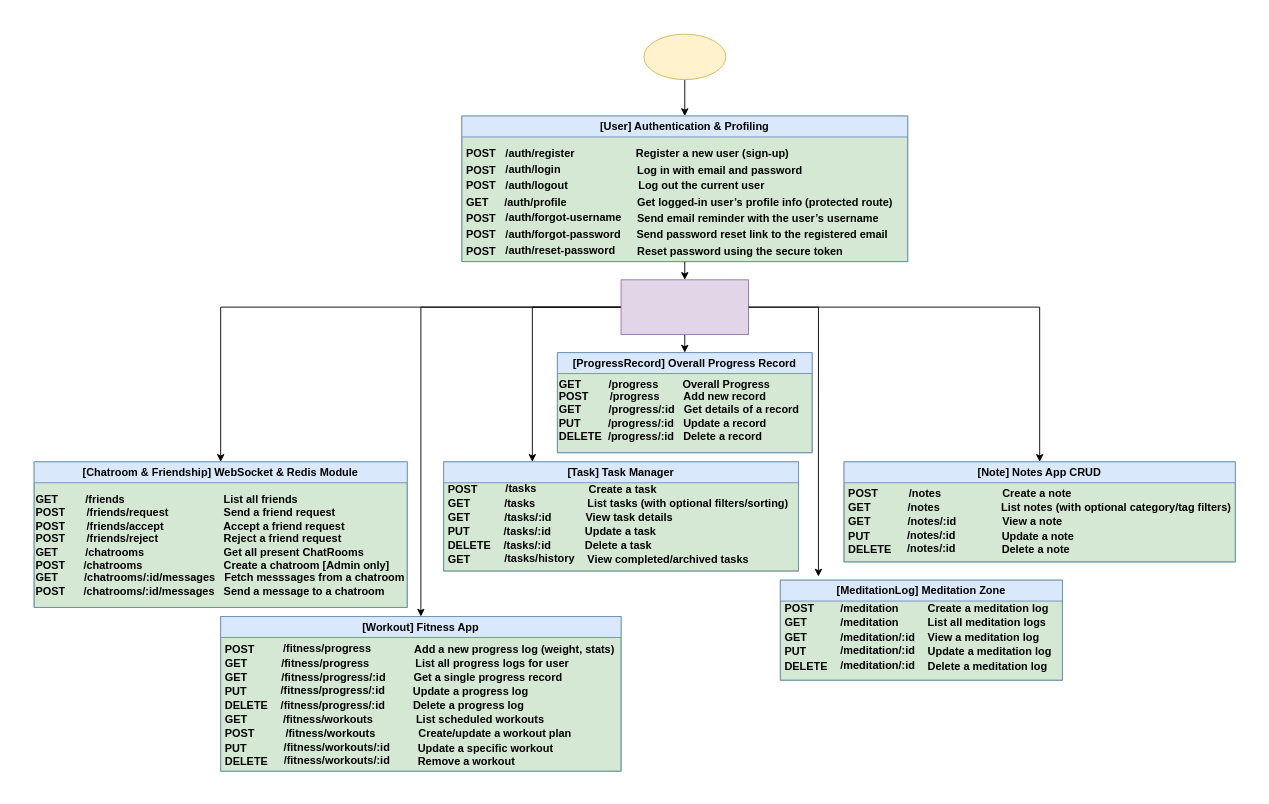
Some shapes in this 1269 by 804 pixel diagram are drawn without their labels. The shapes that lost their labels are listed below. From the top down, each one's centre as x and y in pixels, then its label:
the point at 684,56: User
the point at 684,306: Logs in to Aspirely & Accesses Dashboard
